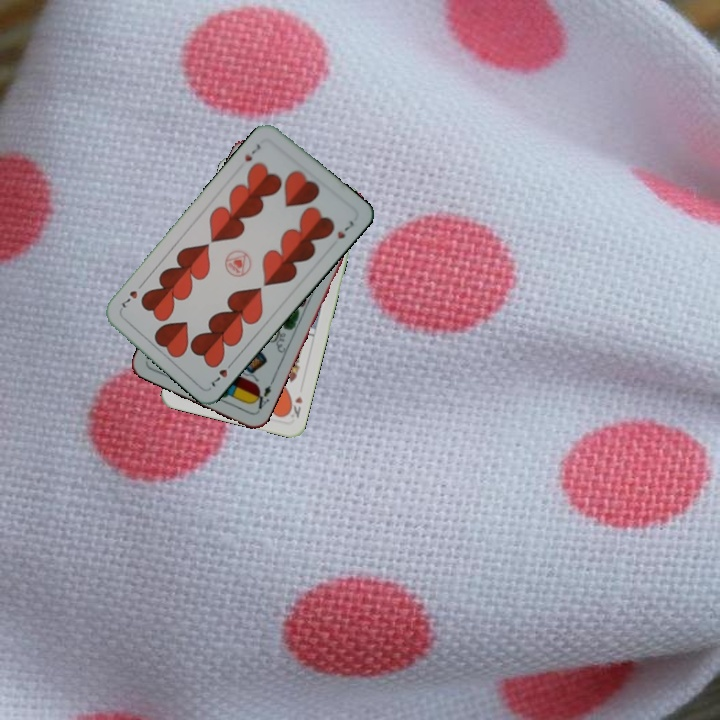EA: (249, 376, 276, 415)
H7: (205, 357, 237, 390), (241, 140, 264, 164)
HK: (283, 392, 305, 421)
